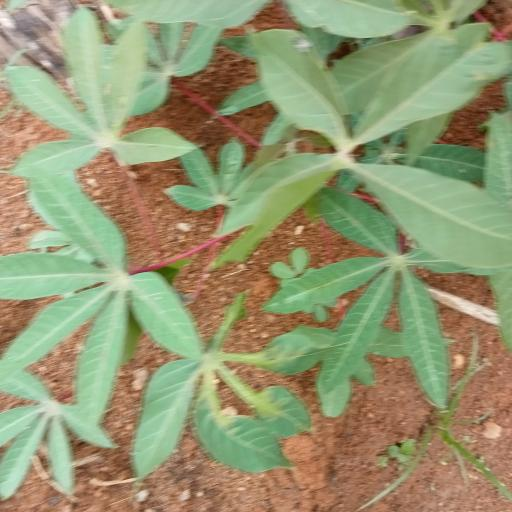Cassava_Mosaic: (232, 20, 512, 281), (0, 169, 198, 448)
